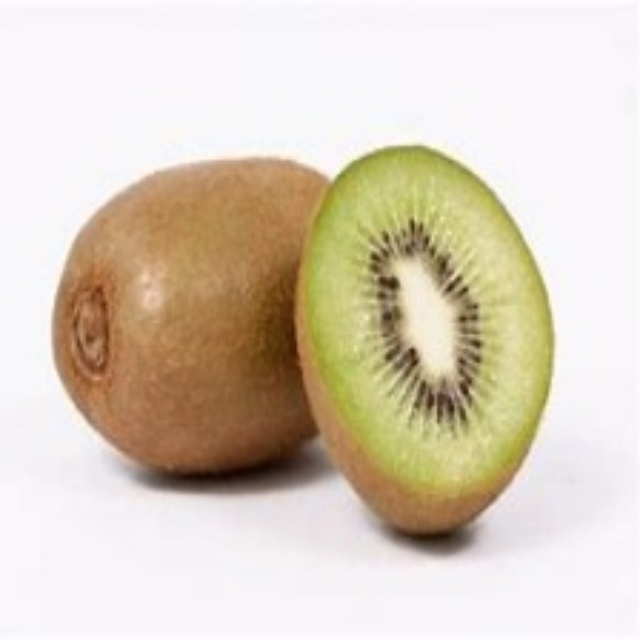kiwi: (287, 139, 558, 541), (51, 153, 347, 487)
